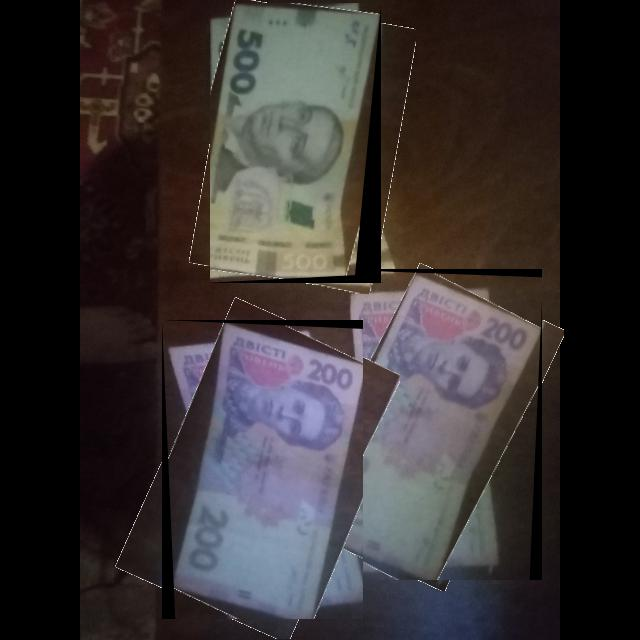200uah: (316, 273, 542, 581), (172, 322, 364, 620)
500uah: (210, 3, 381, 278)
